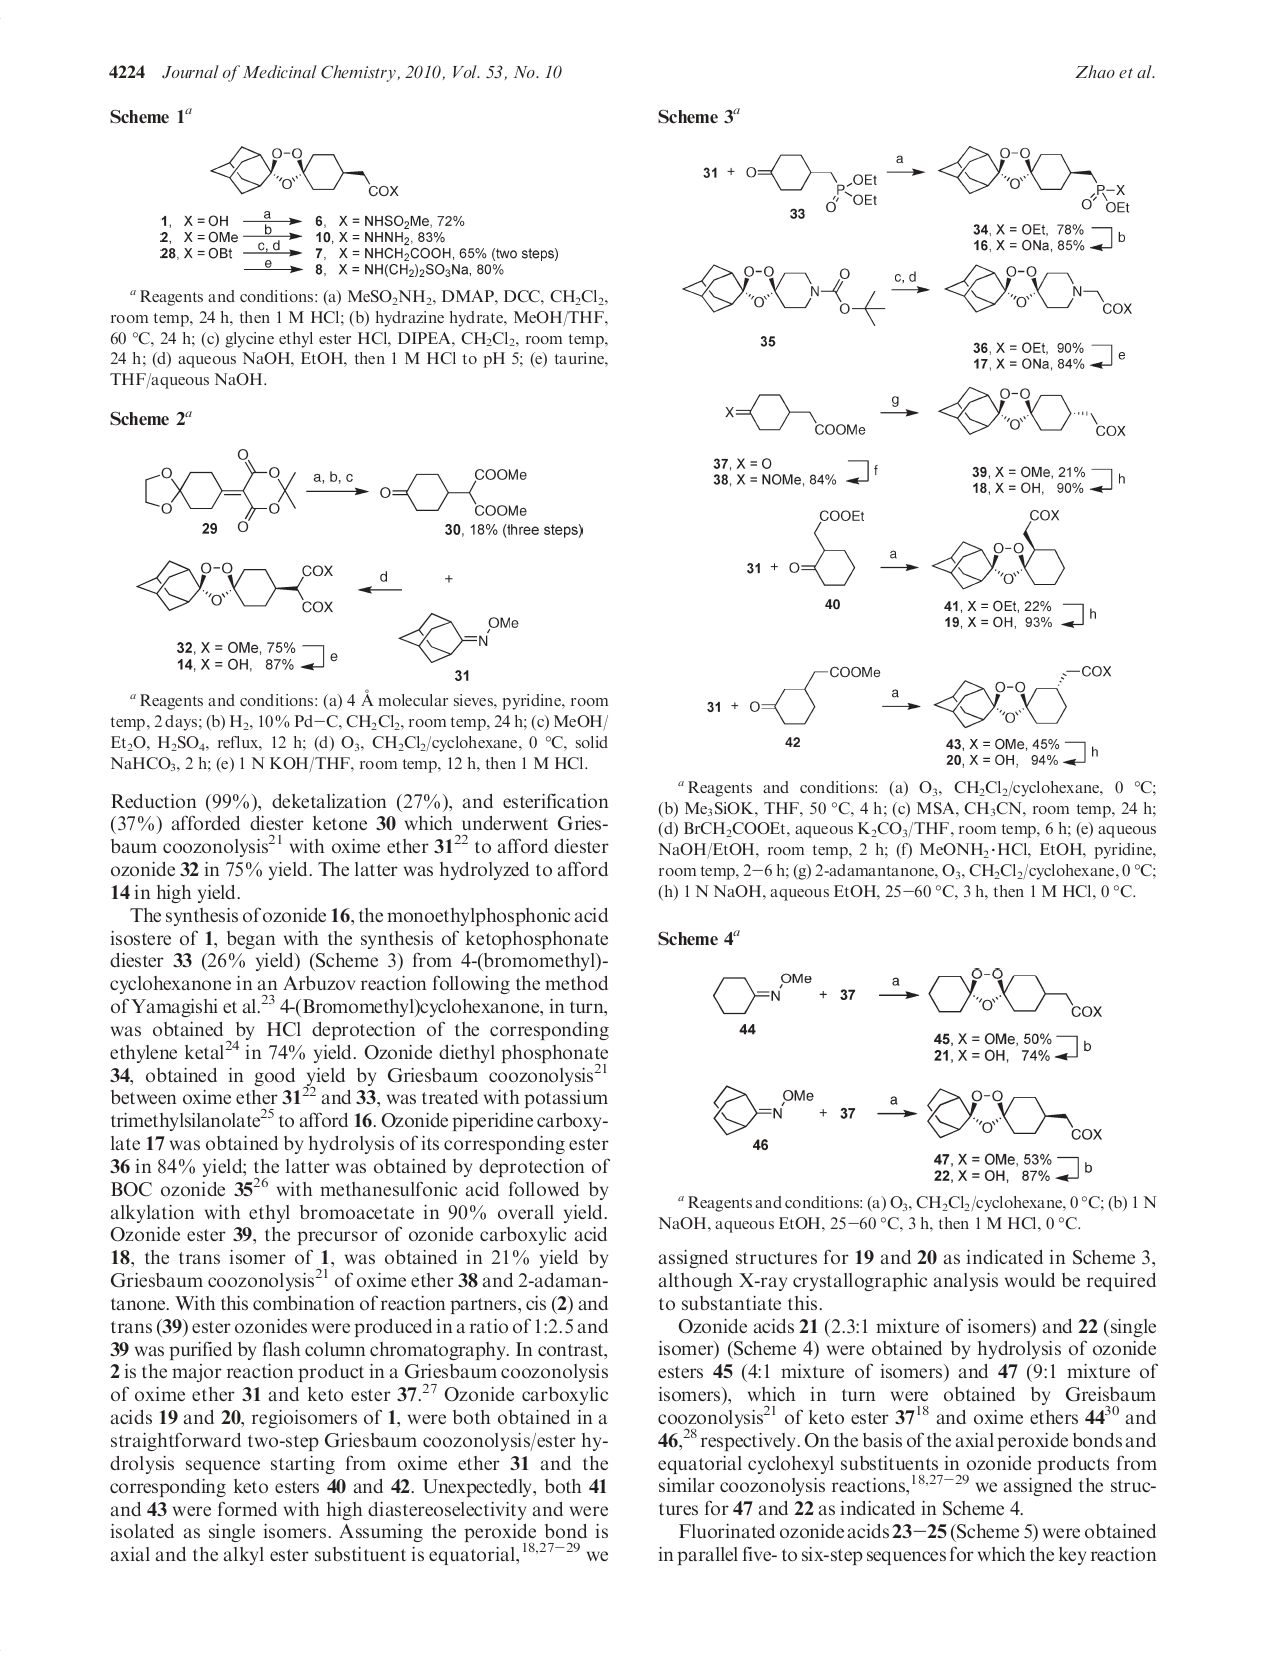exist_molecular: (936, 138, 1130, 211), (140, 448, 303, 533), (684, 259, 884, 328), (930, 505, 1076, 598), (934, 660, 1114, 731), (203, 144, 410, 205), (132, 555, 338, 616), (374, 452, 552, 519), (938, 261, 1134, 319), (931, 388, 1133, 440), (922, 1087, 1105, 1142), (926, 964, 1109, 1017), (741, 152, 883, 219), (747, 666, 884, 729), (395, 602, 531, 664), (785, 501, 878, 590), (722, 388, 876, 440), (711, 1083, 819, 1134), (714, 967, 822, 1016)
